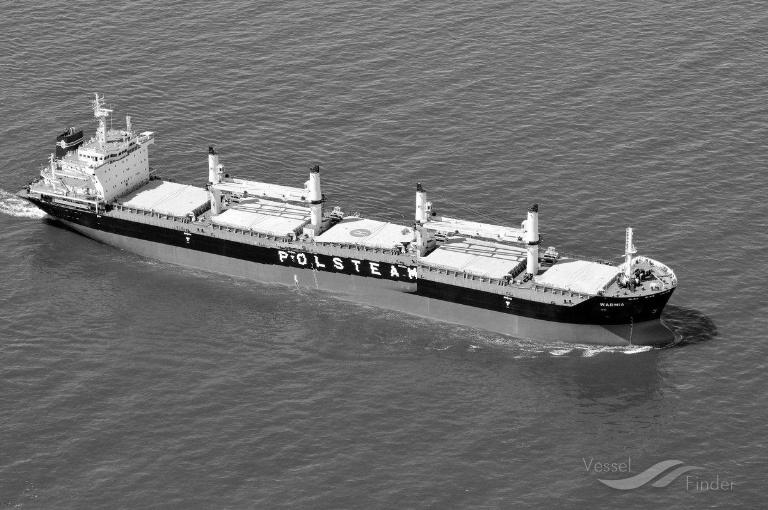OCR: (261, 242, 417, 301)
